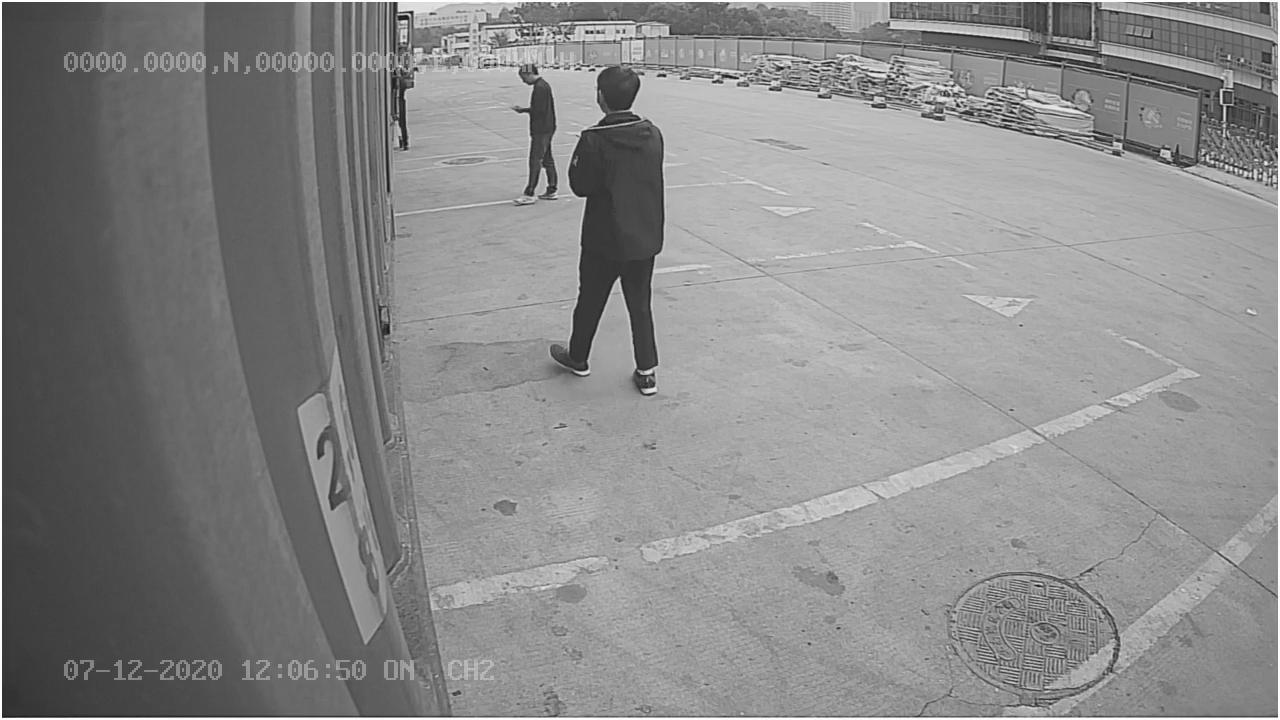person: (552, 68, 675, 396)
